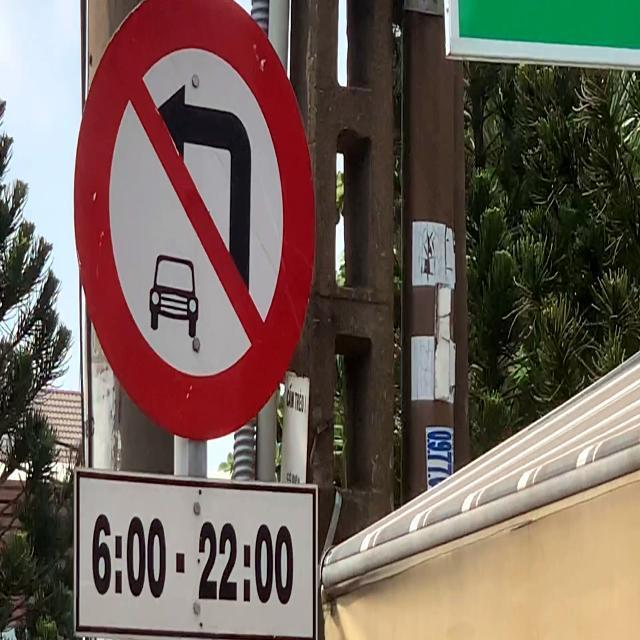123a-cam-re-trai: (66, 0, 317, 440)
